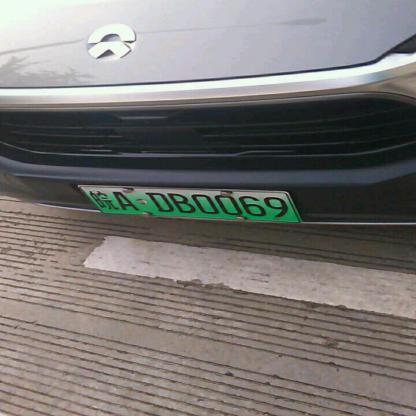lp: (78, 184, 300, 221)
